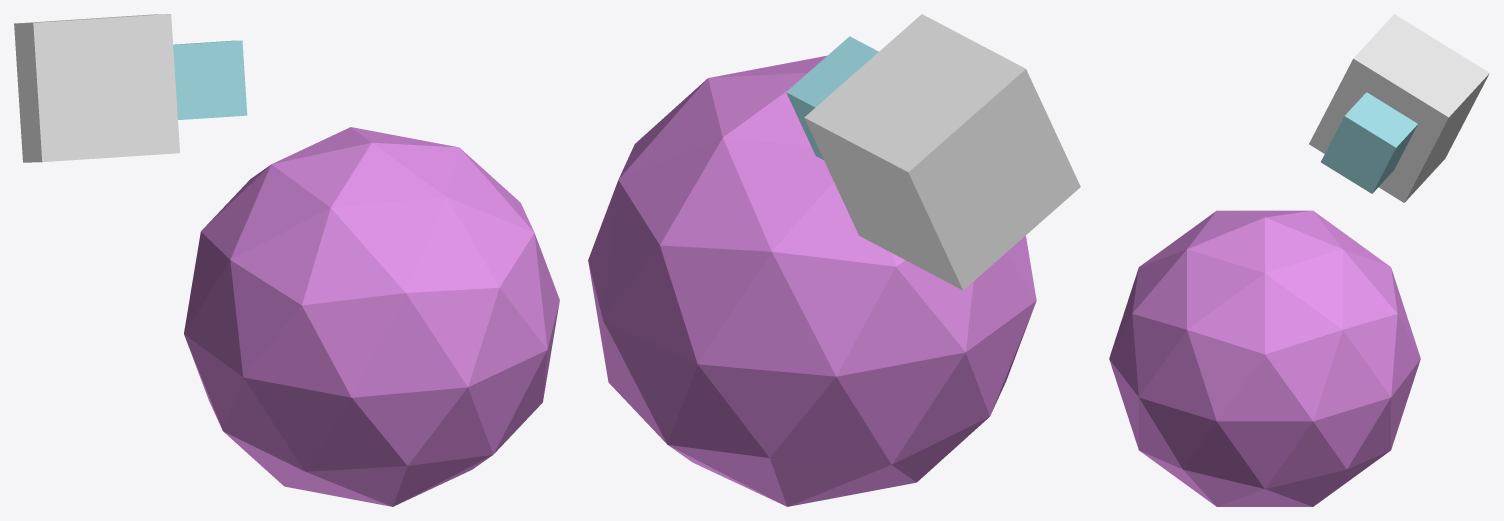
Rendered from shapes.gltf.
The picture shows the model from 3 angles, left to right: view 1: azimuth 30°, elevation 25°; view 2: azimuth 150°, elevation 25°; view 3: azimuth 270°, elevation 25°; orthographic projection. The views are drawn at different scales.
Visible parts, largest first — view 1: Icosphere, Cube; view 2: Icosphere, Cube; view 3: Icosphere, Cube.
Part boxes in pixels (x1,y1,x2,y2): Icosphere: [184, 127, 559, 506]; Cube: [14, 14, 247, 162]; Icosphere: [588, 55, 1036, 506]; Cube: [786, 14, 1080, 290]; Icosphere: [1109, 210, 1420, 506]; Cube: [1309, 14, 1489, 202].
Bounding box in the file's own units: 2.62 × 2.72 × 2.44.
